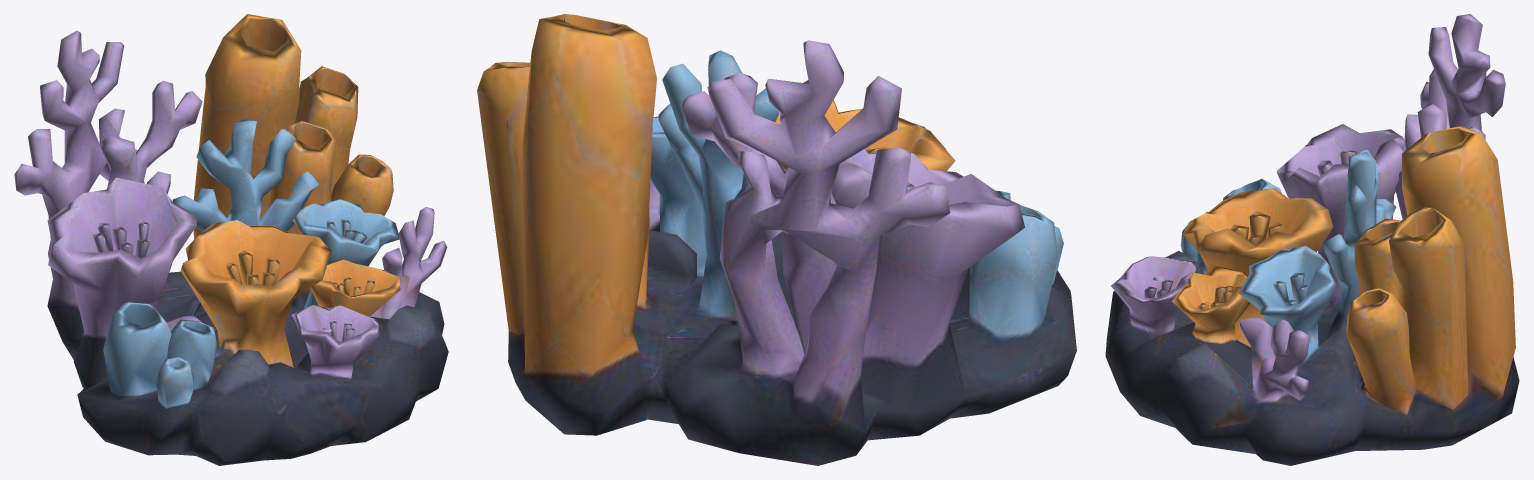
The model's file is coral2.glb.
3 views of the same model, side by side, from view 1: azimuth 30°, elevation 25°; view 2: azimuth 150°, elevation 25°; view 3: azimuth 270°, elevation 25° (orthographic). The views are drawn at different scales.
Visible parts, largest first — view 1: geometry_0; view 2: geometry_0; view 3: geometry_0.
Boxes of the visible parts, bbox=[...] form: geometry_0: bbox=[14, 14, 448, 465]; geometry_0: bbox=[477, 14, 1076, 465]; geometry_0: bbox=[1105, 14, 1519, 465].
Size of the model in its own units: 0.9653 by 0.7656 by 0.8999.
1 material, 1 textured.
